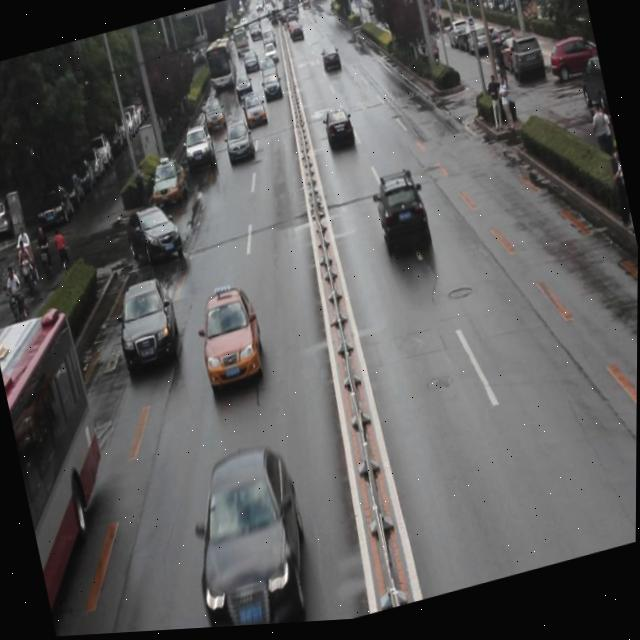car: (175, 444, 322, 632), (192, 282, 269, 393), (111, 274, 184, 375), (368, 171, 432, 260), (121, 200, 184, 273), (145, 152, 189, 211), (179, 123, 218, 175), (320, 111, 356, 157), (221, 121, 255, 167), (241, 94, 267, 132), (202, 99, 227, 135), (259, 76, 283, 104)
van: (0, 301, 133, 618)
